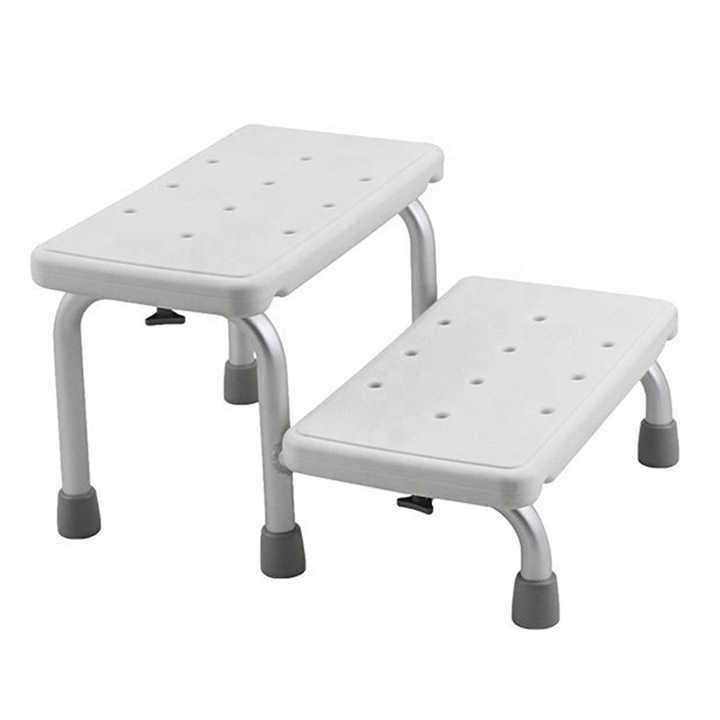stool: (19, 116, 700, 618)
